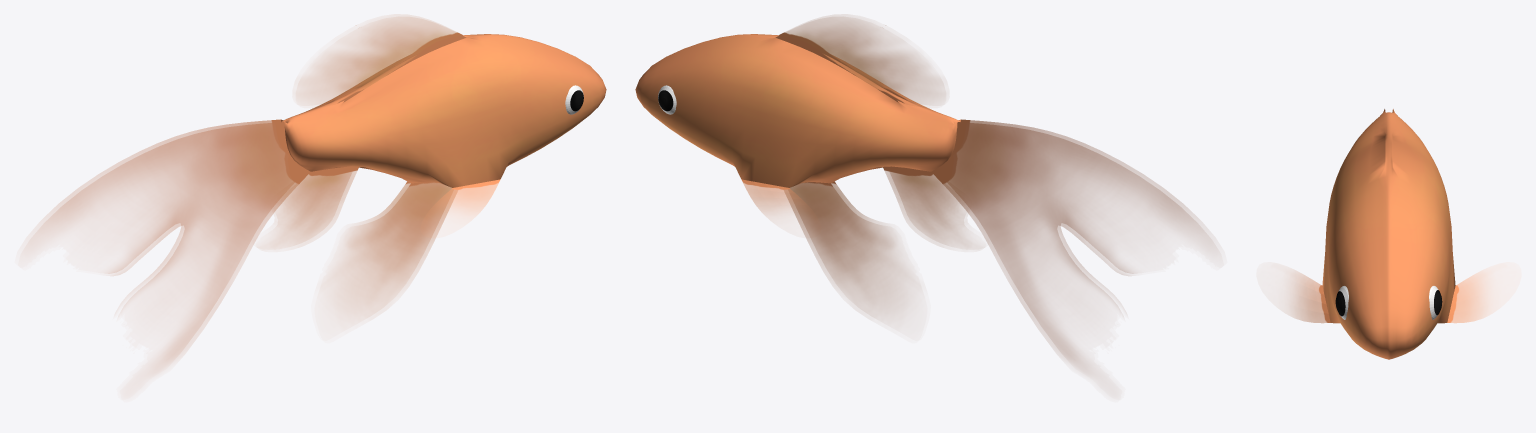
The model's file is fish_more.glb.
The picture shows the model from 3 angles, left to right: view 1: azimuth 30°, elevation 25°; view 2: azimuth 150°, elevation 25°; view 3: azimuth 270°, elevation 25°; orthographic projection. The views are drawn at different scales.
Visible parts, largest first — view 1: Cube; view 2: Cube; view 3: Cube, Sphere, Sphere.001.
Part boxes in pixels (x1,y1,x2,y2): Cube: [24, 16, 606, 374]; Cube: [635, 16, 1217, 374]; Cube: [1287, 109, 1490, 359]; Sphere: [1335, 286, 1348, 319]; Sphere.001: [1429, 286, 1442, 319].
Size of the model in its own units: 0.702 by 0.3791 by 0.2334.
Materials: 2 (2 with a texture image).
